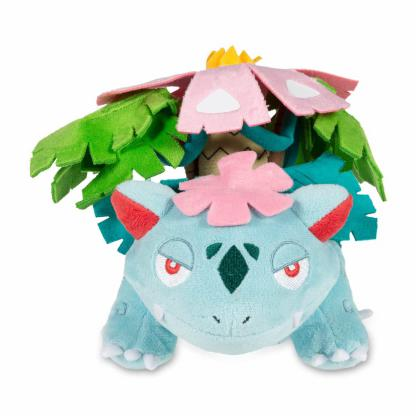Venusaur: (14, 37, 415, 395)
